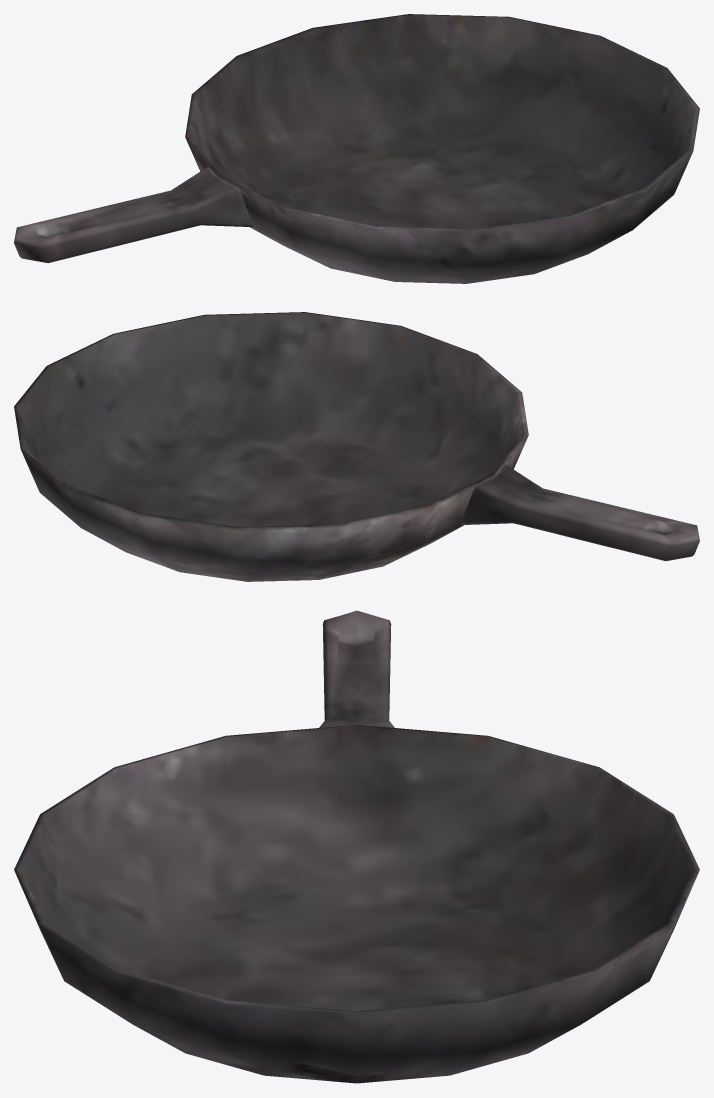
Rendered from frying-pan.glb.
The picture shows the model from 3 angles, top to bottom: view 1: azimuth 30°, elevation 25°; view 2: azimuth 150°, elevation 25°; view 3: azimuth 270°, elevation 25°; orthographic projection. The views are drawn at different scales.
Parts seen in each view (by area): view 1: SM_Pan_Utensils_0; view 2: SM_Pan_Utensils_0; view 3: SM_Pan_Utensils_0.
Part boxes in pixels (x1=…): SM_Pan_Utensils_0: x1=14, y1=14, x2=699, y2=283; SM_Pan_Utensils_0: x1=14, y1=312, x2=699, y2=581; SM_Pan_Utensils_0: x1=14, y1=610, x2=699, y2=1083.
Bounding box in the file's own units: 0.5288 × 0.0655 × 0.3639.
1 material, 1 textured.
